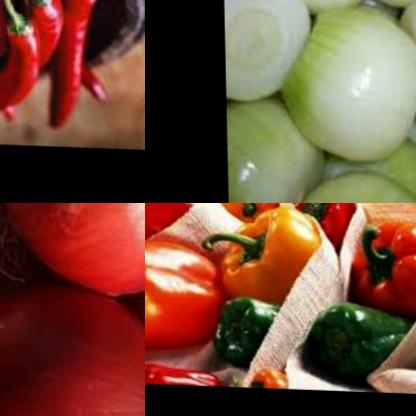bell pepper: (209, 203, 325, 300), (145, 234, 230, 356), (304, 292, 415, 381), (349, 208, 416, 311), (209, 288, 290, 367), (145, 203, 206, 246), (177, 203, 287, 226), (293, 203, 362, 239), (145, 353, 222, 384), (240, 361, 286, 386)
hot pepper: (0, 0, 111, 147)
onion: (224, 0, 416, 203), (0, 273, 145, 416), (2, 203, 145, 292)
